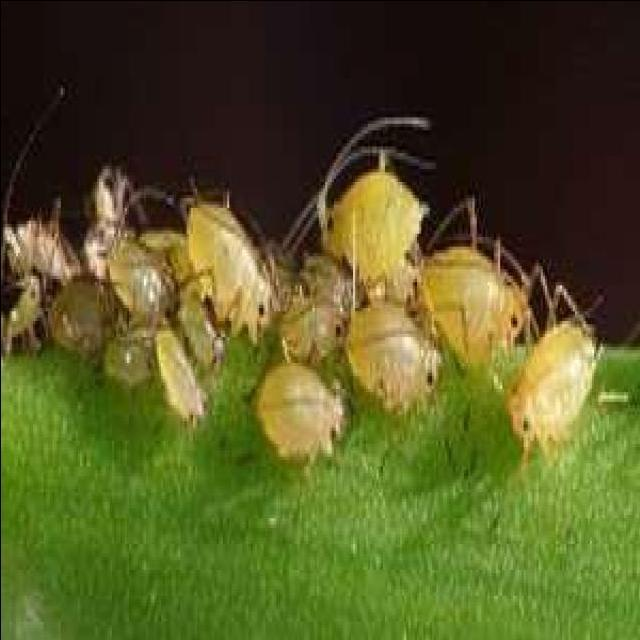aphid: (298, 102, 441, 286), (488, 278, 616, 478), (179, 188, 299, 356), (334, 301, 452, 468), (412, 249, 546, 372), (235, 366, 354, 466)
